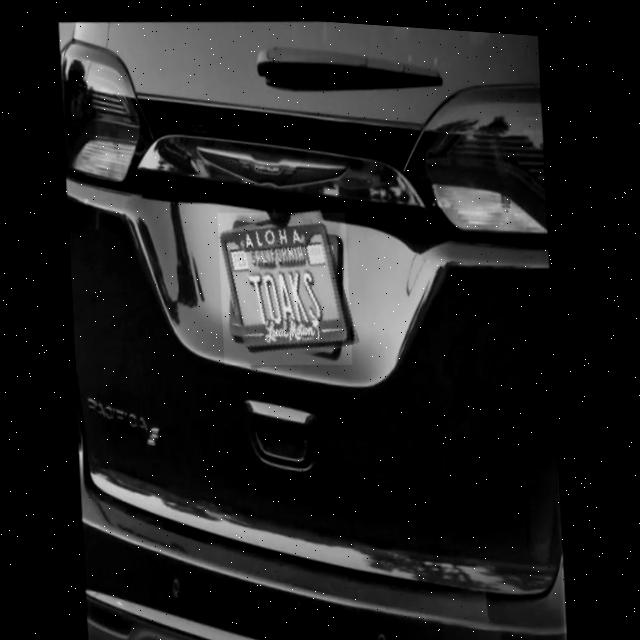LicensePlate: (216, 201, 357, 368)
